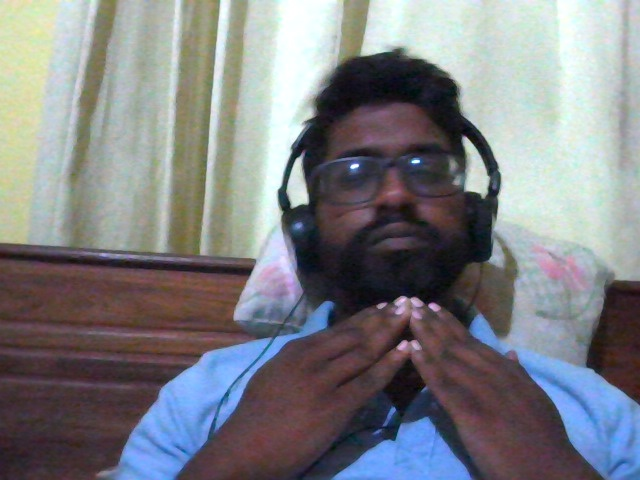Thank you: (161, 276, 640, 480)
